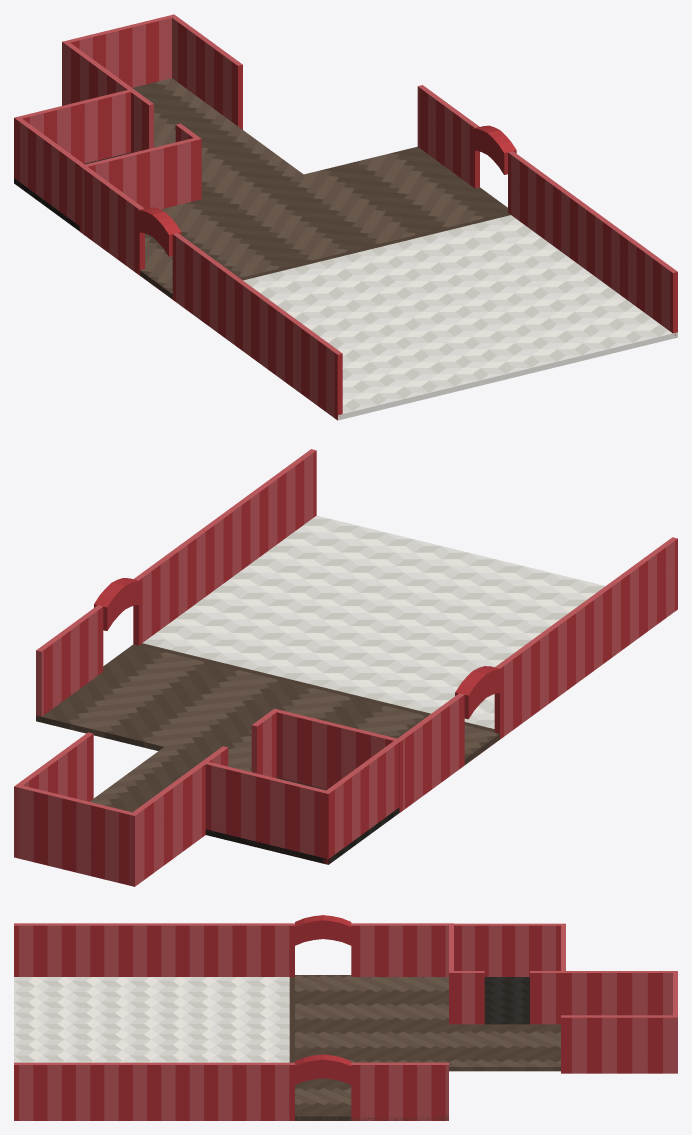
File: Cinema_Map.fbx
The picture shows the model from 3 angles, top to bottom: view 1: azimuth 30°, elevation 25°; view 2: azimuth 150°, elevation 25°; view 3: azimuth 270°, elevation 25°; orthographic projection. The views are drawn at different scales.
Visible parts, largest first — view 1: M_Main_Floor, M_Wall, M_Room, M_Passage, M_Wall_03, M_Wall_01, M_Wall_02; view 2: M_Main_Floor, M_Wall, M_Room, M_Wall_01, M_Wall_02, M_Passage, M_Wall_03; view 3: M_Wall, M_Main_Floor, M_Room, M_Wall_03, M_Passage, M_Wall_02.
Part boxes in pixels (left/top/right/bottom): M_Main_Floor: left=140, top=146, right=677, bottom=420; M_Wall: left=82, top=85, right=677, bottom=420; M_Room: left=14, top=88, right=201, bottom=233; M_Passage: left=132, top=78, right=303, bottom=199; M_Wall_03: left=169, top=14, right=242, bottom=129; M_Wall_01: left=67, top=15, right=171, bottom=87; M_Wall_02: left=62, top=40, right=132, bottom=105; M_Main_Floor: left=36, top=515, right=605, bottom=767; M_Wall: left=36, top=449, right=677, bottom=810; M_Room: left=200, top=708, right=402, bottom=864; M_Wall_01: left=19, top=785, right=131, bottom=885; M_Wall_02: left=129, top=763, right=205, bottom=886; M_Passage: left=89, top=747, right=251, bottom=812; M_Wall_03: left=14, top=732, right=93, bottom=858; M_Wall: left=14, top=915, right=448, bottom=1120; M_Main_Floor: left=14, top=975, right=448, bottom=1120; M_Room: left=449, top=923, right=565, bottom=1024; M_Wall_03: left=561, top=1015, right=677, bottom=1073; M_Passage: left=449, top=1024, right=560, bottom=1071; M_Wall_02: left=561, top=971, right=677, bottom=1015.
Bounding box in the file's own units: 4090 × 829 × 7940.
